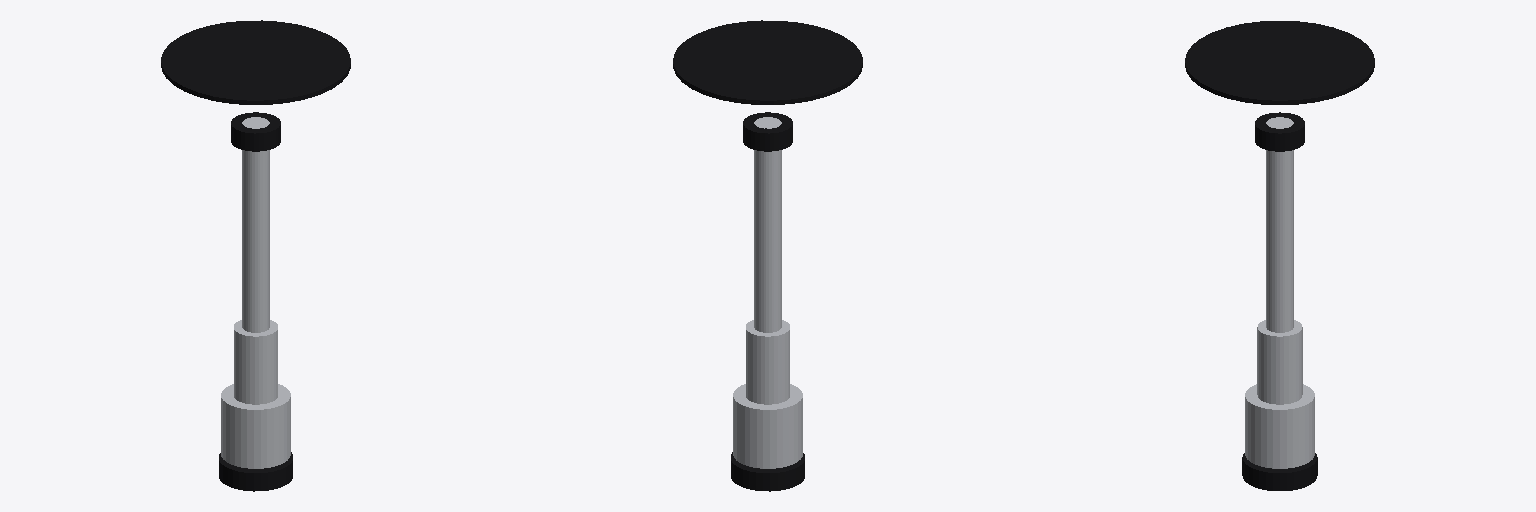
The robot description file, URDF, robot "ceiling_fan":
<robot name="ceiling_fan">
  <material name="brushed_nickel">
    <color rgba="0.76 0.77 0.79 1" />
  </material>
  <material name="satin_black">
    <color rgba="0.12 0.12 0.13 1" />
  </material>
  <material name="dark_walnut">
    <color rgba="0.35 0.22 0.13 1" />
  </material>
  <link name="mount">
    <inertial>
      <origin xyz="0 0 -0.175" rpy="0 0 0" />
      <mass value="2.8" />
      <inertia ixx="0.0320133" ixy="0" ixz="0" iyy="0.0320133" iyz="0" izz="0.00686" />
    </inertial>
    <visual name="canopy">
      <geometry>
        <mesh filename="meshes/ceiling_fan_canopy.glb" />
      </geometry>
      <material name="brushed_nickel">
        <color rgba="0.76 0.77 0.79 1" />
      </material>
    </visual>
    <visual name="ceiling_gasket">
      <origin xyz="0 0 -0.002" rpy="0 0 0" />
      <geometry>
        <cylinder radius="0.076" length="0.004" />
      </geometry>
      <material name="satin_black">
        <color rgba="0.12 0.12 0.13 1" />
      </material>
    </visual>
    <visual name="downrod_collar">
      <origin xyz="0 0 -0.063" rpy="0 0 0" />
      <geometry>
        <cylinder radius="0.02" length="0.016" />
      </geometry>
      <material name="satin_black">
        <color rgba="0.12 0.12 0.13 1" />
      </material>
    </visual>
    <visual name="downrod">
      <origin xyz="0 0 -0.145" rpy="0 0 0" />
      <geometry>
        <cylinder radius="0.011" length="0.18" />
      </geometry>
      <material name="brushed_nickel">
        <color rgba="0.76 0.77 0.79 1" />
      </material>
    </visual>
    <visual name="motor_coupler">
      <origin xyz="0 0 -0.265" rpy="0 0 0" />
      <geometry>
        <cylinder radius="0.018" length="0.06" />
      </geometry>
      <material name="brushed_nickel">
        <color rgba="0.76 0.77 0.79 1" />
      </material>
    </visual>
    <visual name="hanger_yoke">
      <origin xyz="0 0 -0.321" rpy="0 0 0" />
      <geometry>
        <cylinder radius="0.028" length="0.052" />
      </geometry>
      <material name="brushed_nickel">
        <color rgba="0.76 0.77 0.79 1" />
      </material>
    </visual>
    <collision name="mount__canopy__hull_001">
      <geometry>
        <mesh filename="meshes/collision/cache/9529b4fc87890d01fd43a137__hull_001.obj" />
      </geometry>
    </collision>
    <collision name="mount__ceiling_gasket">
      <origin xyz="0 0 -0.002" rpy="0 0 0" />
      <geometry>
        <cylinder radius="0.076" length="0.004" />
      </geometry>
    </collision>
    <collision name="mount__downrod_collar">
      <origin xyz="0 0 -0.063" rpy="0 0 0" />
      <geometry>
        <cylinder radius="0.02" length="0.016" />
      </geometry>
    </collision>
    <collision name="mount__downrod">
      <origin xyz="0 0 -0.145" rpy="0 0 0" />
      <geometry>
        <cylinder radius="0.011" length="0.18" />
      </geometry>
    </collision>
    <collision name="mount__motor_coupler">
      <origin xyz="0 0 -0.265" rpy="0 0 0" />
      <geometry>
        <cylinder radius="0.018" length="0.06" />
      </geometry>
    </collision>
    <collision name="mount__hanger_yoke">
      <origin xyz="0 0 -0.321" rpy="0 0 0" />
      <geometry>
        <cylinder radius="0.028" length="0.052" />
      </geometry>
    </collision>
  </link>
  <link name="rotor">
    <inertial>
      <origin xyz="0 0 -0.1" rpy="0 0 0" />
      <mass value="6.6" />
      <inertia ixx="0.67914" ixy="0" ixz="0" iyy="0.67914" iyz="0" izz="1.30977" />
    </inertial>
    <visual name="rotor_collar">
      <origin xyz="0 0 -0.008" rpy="0 0 0" />
      <geometry>
        <cylinder radius="0.03" length="0.016" />
      </geometry>
      <material name="satin_black">
        <color rgba="0.12 0.12 0.13 1" />
      </material>
    </visual>
    <visual name="motor_housing">
      <geometry>
        <mesh filename="meshes/ceiling_fan_rotor_shell.glb" />
      </geometry>
      <material name="brushed_nickel">
        <color rgba="0.76 0.77 0.79 1" />
      </material>
    </visual>
    <visual name="blade_arms">
      <geometry>
        <mesh filename="meshes/ceiling_fan_blade_arms.glb" />
      </geometry>
      <material name="satin_black">
        <color rgba="0.12 0.12 0.13 1" />
      </material>
    </visual>
    <visual name="blades">
      <geometry>
        <mesh filename="meshes/ceiling_fan_blades.glb" />
      </geometry>
      <material name="dark_walnut">
        <color rgba="0.35 0.22 0.13 1" />
      </material>
    </visual>
    <collision name="rotor__rotor_collar">
      <origin xyz="0 0 -0.008" rpy="0 0 0" />
      <geometry>
        <cylinder radius="0.03" length="0.016" />
      </geometry>
    </collision>
    <collision name="rotor__motor_housing__hull_001">
      <geometry>
        <mesh filename="meshes/collision/cache/a1dda6d2bac63fa2ccd4bc01__hull_001.obj" />
      </geometry>
    </collision>
    <collision name="rotor__motor_housing__hull_002">
      <geometry>
        <mesh filename="meshes/collision/cache/a1dda6d2bac63fa2ccd4bc01__hull_002.obj" />
      </geometry>
    </collision>
    <collision name="rotor__motor_housing__hull_003">
      <geometry>
        <mesh filename="meshes/collision/cache/a1dda6d2bac63fa2ccd4bc01__hull_003.obj" />
      </geometry>
    </collision>
    <collision name="rotor__blade_arms__hull_001">
      <geometry>
        <mesh filename="meshes/collision/cache/088ad36541c9fcd07d3a63b5__hull_001.obj" />
      </geometry>
    </collision>
    <collision name="rotor__blade_arms__hull_002">
      <geometry>
        <mesh filename="meshes/collision/cache/088ad36541c9fcd07d3a63b5__hull_002.obj" />
      </geometry>
    </collision>
    <collision name="rotor__blade_arms__hull_003">
      <geometry>
        <mesh filename="meshes/collision/cache/088ad36541c9fcd07d3a63b5__hull_003.obj" />
      </geometry>
    </collision>
    <collision name="rotor__blade_arms__hull_004">
      <geometry>
        <mesh filename="meshes/collision/cache/088ad36541c9fcd07d3a63b5__hull_004.obj" />
      </geometry>
    </collision>
    <collision name="rotor__blade_arms__hull_005">
      <geometry>
        <mesh filename="meshes/collision/cache/088ad36541c9fcd07d3a63b5__hull_005.obj" />
      </geometry>
    </collision>
    <collision name="rotor__blades__hull_001">
      <geometry>
        <mesh filename="meshes/collision/cache/794e1284b721120bacf0ee06__hull_001.obj" />
      </geometry>
    </collision>
    <collision name="rotor__blades__hull_002">
      <geometry>
        <mesh filename="meshes/collision/cache/794e1284b721120bacf0ee06__hull_002.obj" />
      </geometry>
    </collision>
    <collision name="rotor__blades__hull_003">
      <geometry>
        <mesh filename="meshes/collision/cache/794e1284b721120bacf0ee06__hull_003.obj" />
      </geometry>
    </collision>
    <collision name="rotor__blades__hull_004">
      <geometry>
        <mesh filename="meshes/collision/cache/794e1284b721120bacf0ee06__hull_004.obj" />
      </geometry>
    </collision>
    <collision name="rotor__blades__hull_005">
      <geometry>
        <mesh filename="meshes/collision/cache/794e1284b721120bacf0ee06__hull_005.obj" />
      </geometry>
    </collision>
  </link>
  <joint name="mount_to_rotor_spin" type="continuous">
    <origin xyz="0 0 -0.35" rpy="0 0 0" />
    <parent link="mount" />
    <child link="rotor" />
    <axis xyz="0 0 -1" />
    <limit effort="5" velocity="20" />
  </joint>
</robot>

--- Render facts (derived) ---
Views: 3 orthographic renders of the robot side by side, from view 1: azimuth 30°, elevation 25°; view 2: azimuth 150°, elevation 25°; view 3: azimuth 270°, elevation 25°.
Model ceiling_fan with 2 links and 1 joints (1 continuous), rooted at mount, posed all joints at 0.
Links seen in each view (by area): view 1: mount, rotor; view 2: mount, rotor; view 3: mount, rotor.
Link boxes in pixels (x1,y1,x2,y2): mount: (161, 20, 350, 468); rotor: (219, 452, 292, 491); mount: (673, 20, 862, 468); rotor: (731, 452, 804, 491); mount: (1185, 21, 1374, 468); rotor: (1242, 453, 1317, 490).
Bounding box of the posed robot: 0.152 × 0.152 × 0.366 m (x, y, z).
0 mesh visuals loaded from 4 distinct referenced files (none loaded); not drawn: 4 (reference not matched to a file when rendering).
